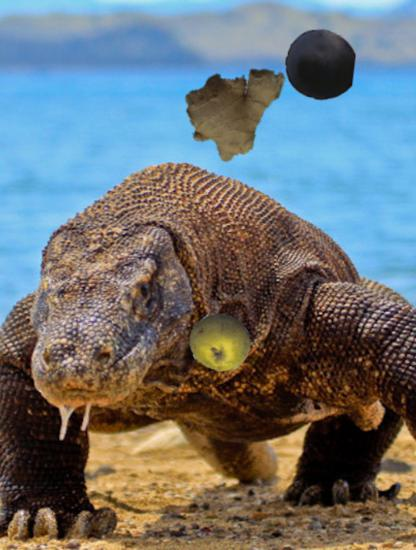Ginger: (184, 53, 296, 165)
Grape: (285, 29, 357, 101)
Pear: (190, 312, 252, 374)
